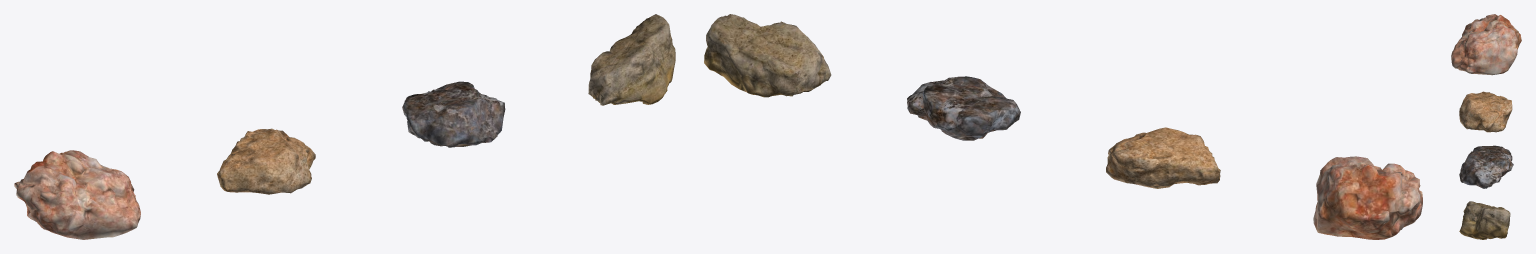
Rendered from rock-desert-rubble.99280701.glb.
3 views of the same model, side by side, from view 1: azimuth 30°, elevation 25°; view 2: azimuth 150°, elevation 25°; view 3: azimuth 270°, elevation 25° (orthographic). The views are drawn at different scales.
Parts seen in each view (by area): view 1: model; view 2: model; view 3: model.
Boxes of the visible parts, <box> form: model: <box>14,14,675,239</box>; model: <box>704,14,1422,239</box>; model: <box>1451,14,1521,239</box>.
Bounding box in the file's own units: 1.45 × 0.1513 × 0.2158.
1 material, 1 textured.
